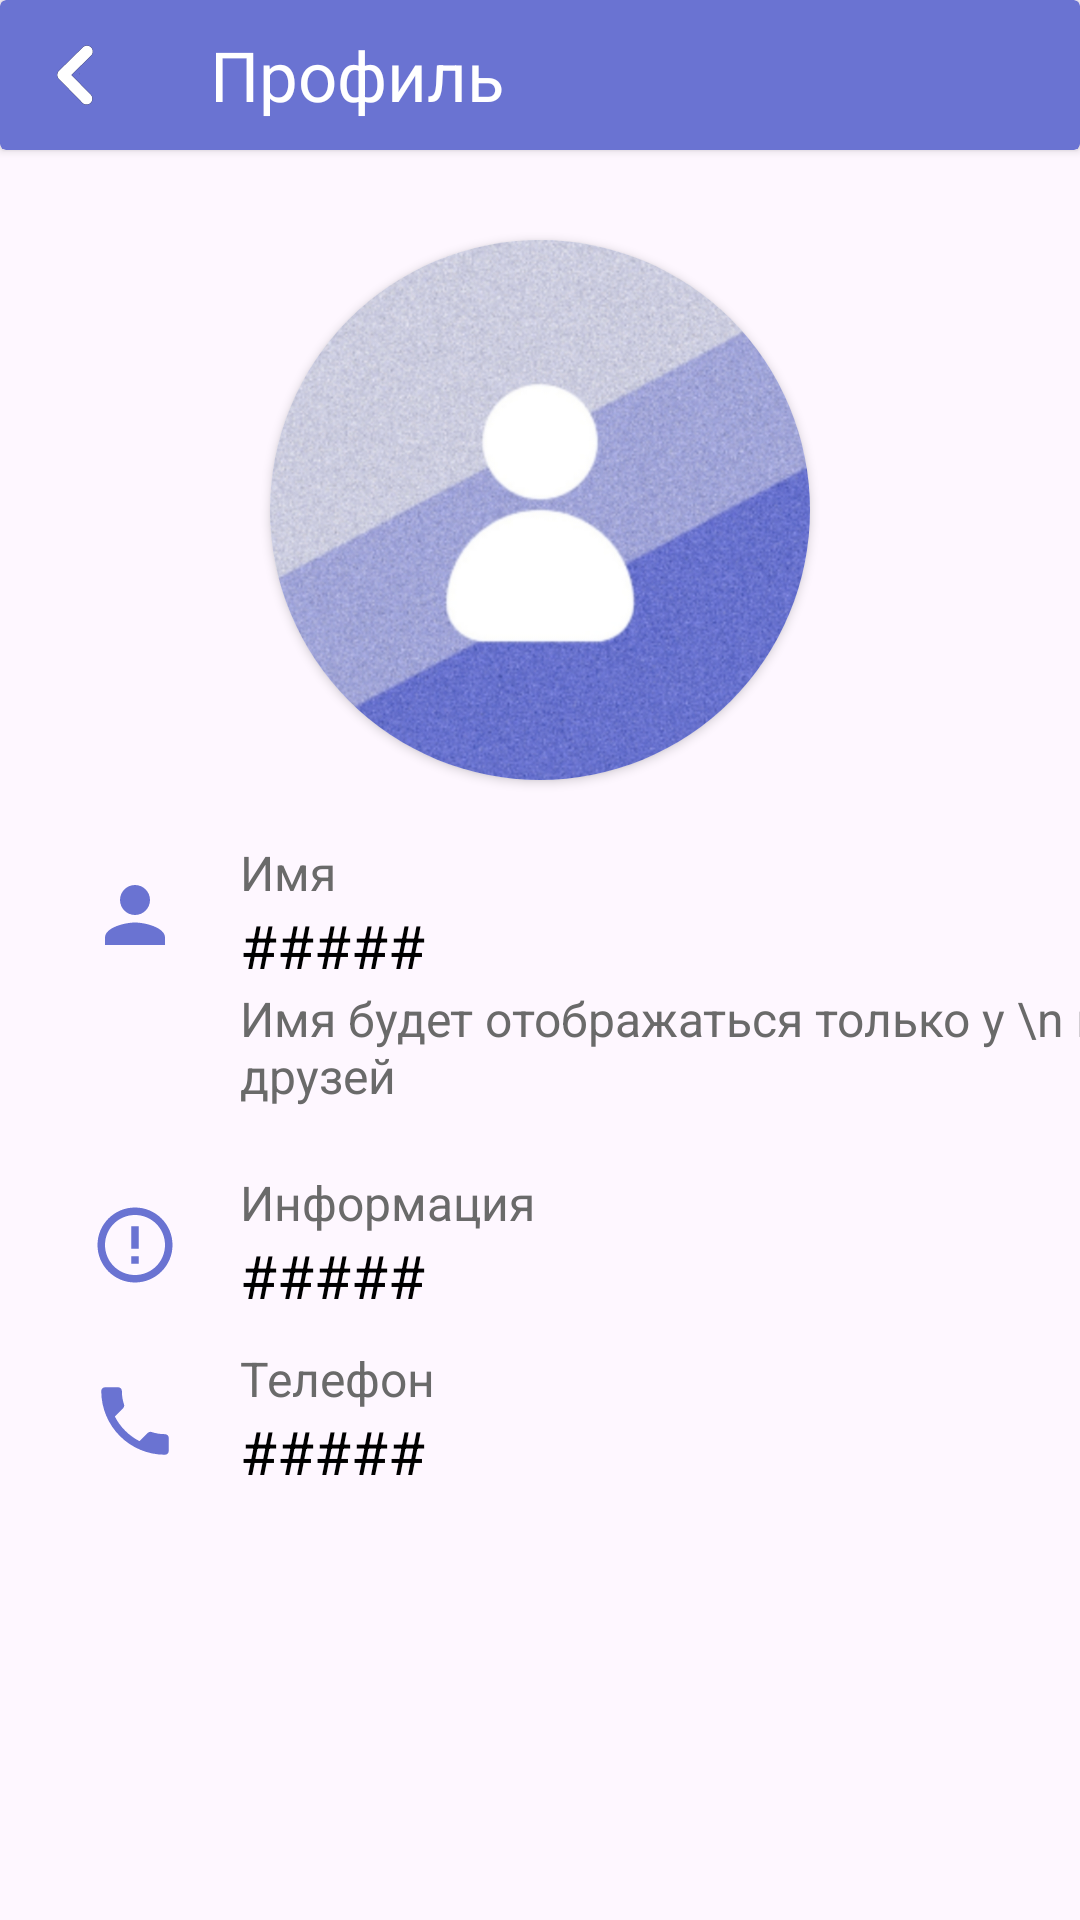

Locate icon controls on the screen. Image size 1080*1920, boxes as (x1=x1, y1=y1, x2=x2, y2=y2).
back: (x1=57, y1=45, x2=93, y2=105)
info: (x1=97, y1=1207, x2=173, y2=1283)
person: (x1=105, y1=885, x2=165, y2=945)
phone: (x1=101, y1=1387, x2=169, y2=1455)
